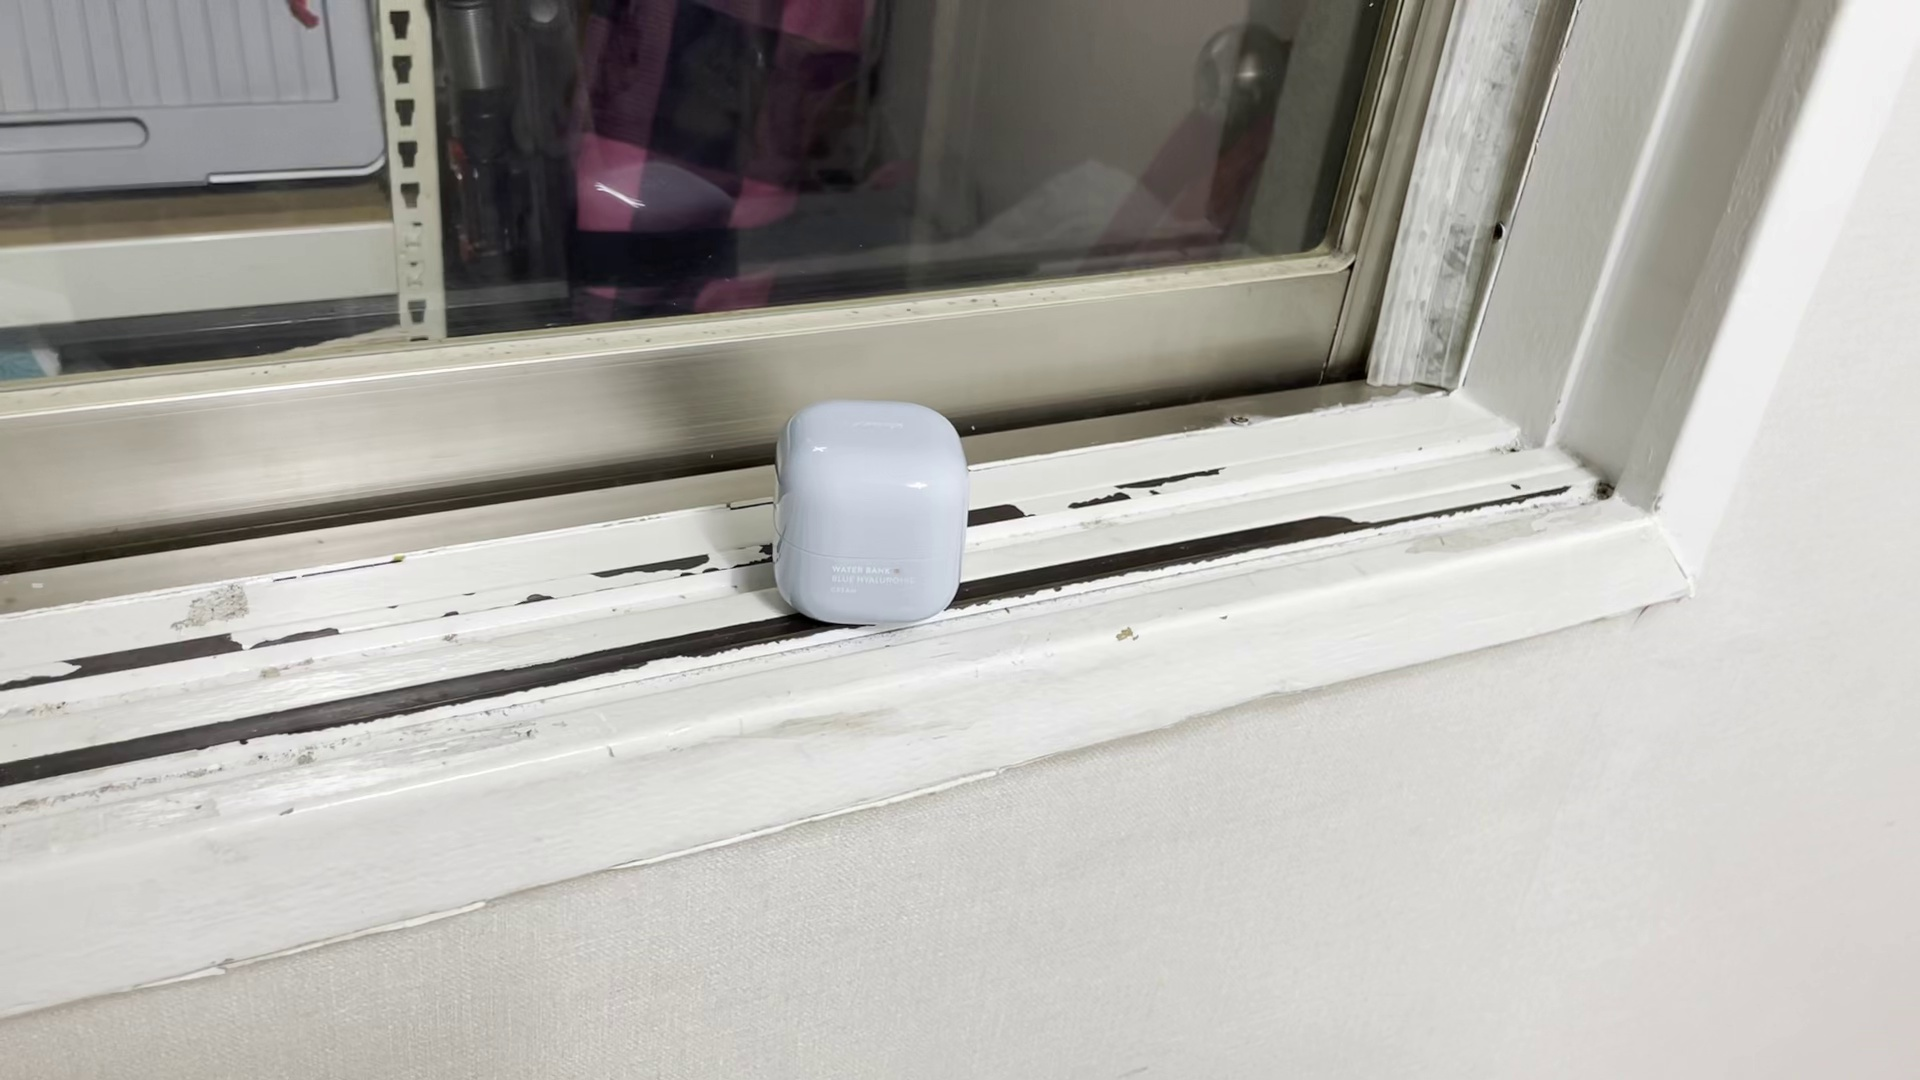cream: (771, 400, 965, 629)
